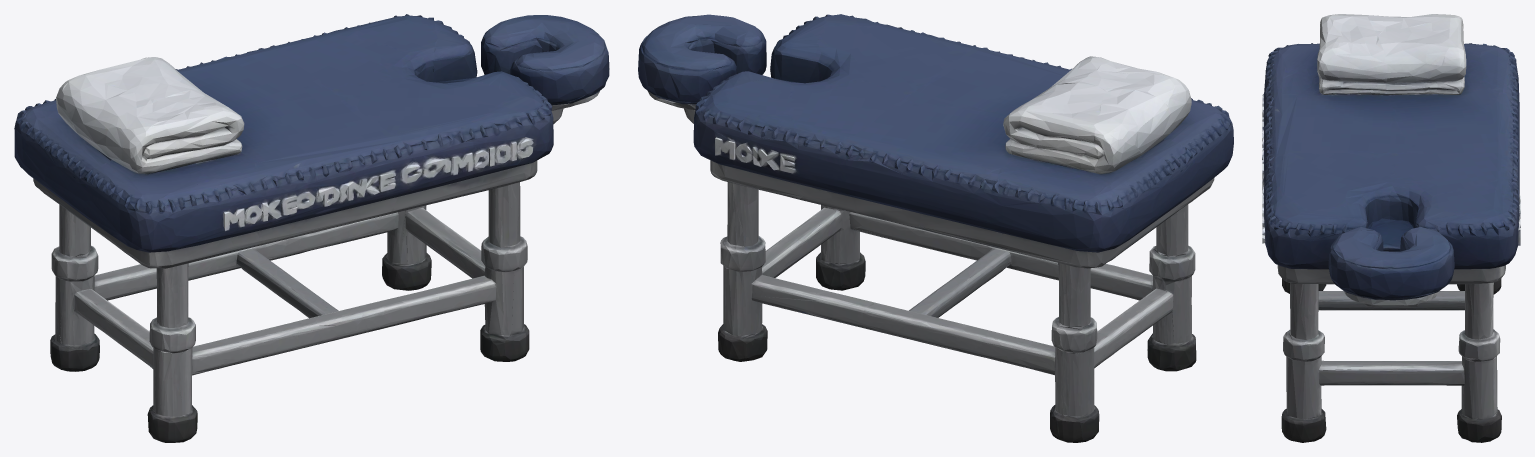
Rendered from massage-table.glb.
3 renders of one model, left to right at view 1: azimuth 30°, elevation 25°; view 2: azimuth 150°, elevation 25°; view 3: azimuth 270°, elevation 25°, orthographic. The views are drawn at different scales.
Parts seen in each view (by area): view 1: massage-table; view 2: massage-table; view 3: massage-table.
Boxes of the visible parts, <box> form: massage-table: <box>14,14,609,442</box>; massage-table: <box>638,14,1233,442</box>; massage-table: <box>1262,14,1520,442</box>.
Size of the model in its own units: 1.74 by 0.9497 by 0.8223.
1 material, 1 textured.
